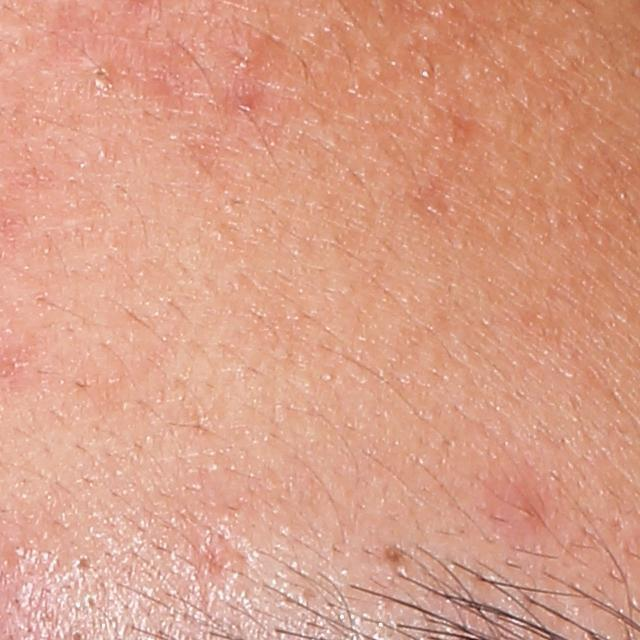comedo: (84, 60, 115, 90)
nevus: (380, 543, 405, 569)
